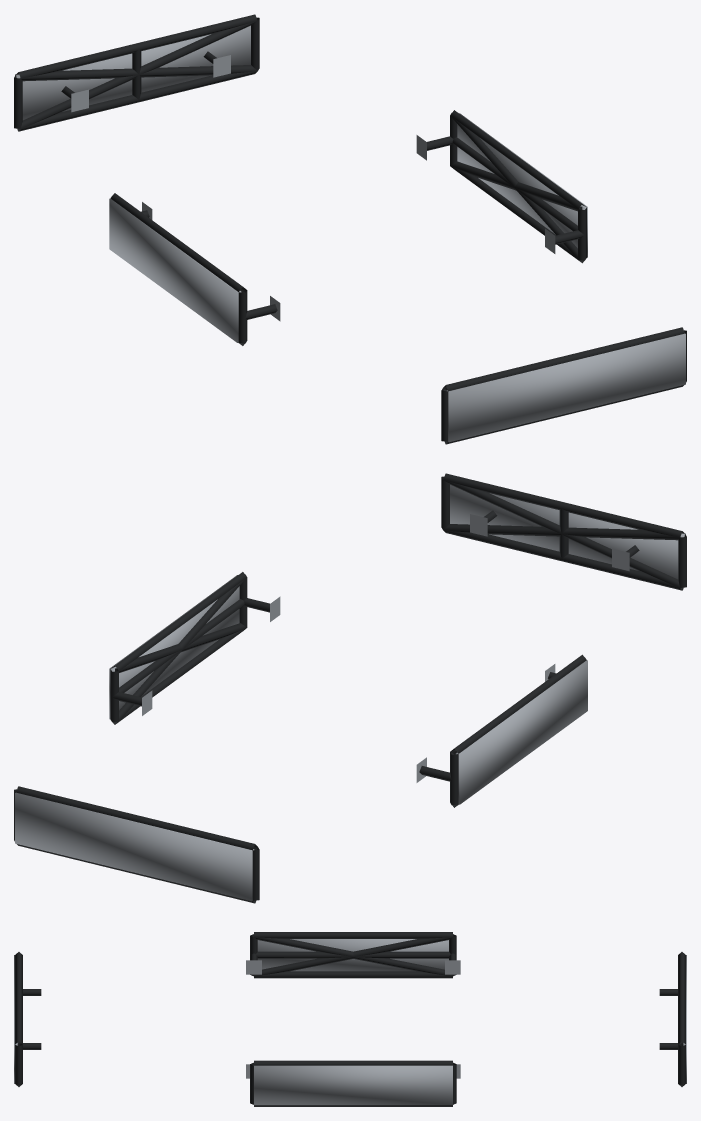
Rendered from vantra_orbita_protecao.glb.
The picture shows the model from 3 angles, top to bottom: view 1: azimuth 30°, elevation 25°; view 2: azimuth 150°, elevation 25°; view 3: azimuth 270°, elevation 25°; orthographic projection. The views are drawn at different scales.
Parts seen in each view (by area): view 1: Protection_front_Level3_Details, Protection_left_Level3_Details, Protection_rear_Level1_Details, Protection_rear_Level3_Details, Protection_rear_Level2_Details, Protection_right_Level1_Details, Protection_right_Level2_Details, Protection_front_Level1_Details, Protection_right_Level3_Details, Protection_left_Level1_Details; view 2: Protection_rear_Level3_Details, Protection_left_Level3_Details, Protection_front_Level1_Details, Protection_front_Level3_Details, Protection_front_Level2_Details, Protection_right_Level1_Details, Protection_right_Level2_Details, Protection_rear_Level1_Details, Protection_right_Level3_Details, Protection_left_Level1_Details; view 3: Protection_right_Level3_Details, Protection_left_Level2_Details, Protection_left_Level1_Details, Protection_left_Level3_Details, Protection_right_Level1_Details, Protection_rear_Level1_Details, Protection_front_Level1_Details.
Boxes of the visible parts, left/top/right/bottom form: Protection_front_Level3_Details: left=446, top=333, right=685, bottom=442; Protection_left_Level3_Details: left=109, top=198, right=241, bottom=342; Protection_rear_Level1_Details: left=14, top=14, right=259, bottom=131; Protection_rear_Level3_Details: left=15, top=25, right=250, bottom=120; Protection_rear_Level2_Details: left=16, top=21, right=257, bottom=130; Protection_right_Level1_Details: left=416, top=110, right=586, bottom=263; Protection_right_Level2_Details: left=450, top=116, right=585, bottom=262; Protection_front_Level1_Details: left=441, top=327, right=686, bottom=444; Protection_right_Level3_Details: left=457, top=113, right=587, bottom=257; Protection_left_Level1_Details: left=110, top=193, right=280, bottom=345; Protection_rear_Level3_Details: left=15, top=792, right=254, bottom=901; Protection_left_Level3_Details: left=455, top=660, right=587, bottom=804; Protection_front_Level1_Details: left=441, top=473, right=686, bottom=590; Protection_front_Level3_Details: left=450, top=484, right=685, bottom=579; Protection_front_Level2_Details: left=443, top=480, right=684, bottom=589; Protection_right_Level1_Details: left=110, top=572, right=280, bottom=724; Protection_right_Level2_Details: left=111, top=578, right=246, bottom=724; Protection_rear_Level1_Details: left=14, top=786, right=259, bottom=903; Protection_right_Level3_Details: left=109, top=575, right=239, bottom=719; Protection_left_Level1_Details: left=416, top=654, right=586, bottom=807; Protection_right_Level3_Details: left=254, top=1065, right=452, bottom=1105; Protection_left_Level2_Details: left=253, top=935, right=453, bottom=976; Protection_left_Level1_Details: left=246, top=932, right=460, bottom=978; Protection_left_Level3_Details: left=257, top=939, right=448, bottom=971; Protection_right_Level1_Details: left=246, top=1060, right=460, bottom=1106; Protection_rear_Level1_Details: left=659, top=952, right=685, bottom=1086; Protection_front_Level1_Details: left=15, top=952, right=41, bottom=1086.
Bounding box in the file's own units: 2.18 × 0.354 × 4.67.
Materials: 1 (1 with a texture image).
